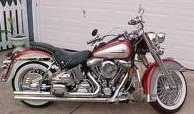motorcycle: (2, 18, 188, 113)
